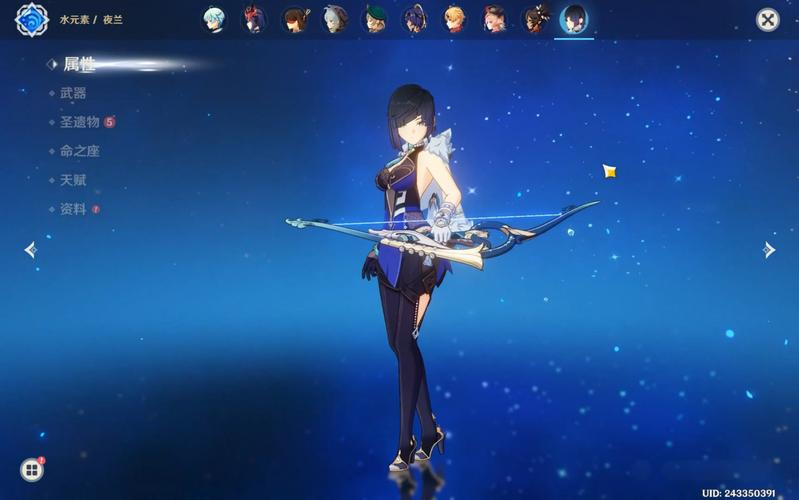夜兰: (357, 79, 476, 475)
